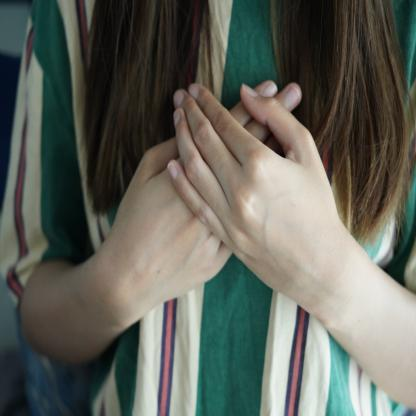Grieve: (102, 82, 363, 325)
